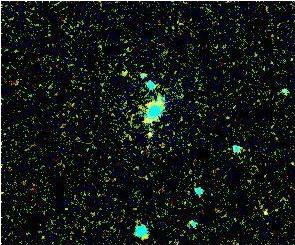star: (109, 56, 139, 86)
